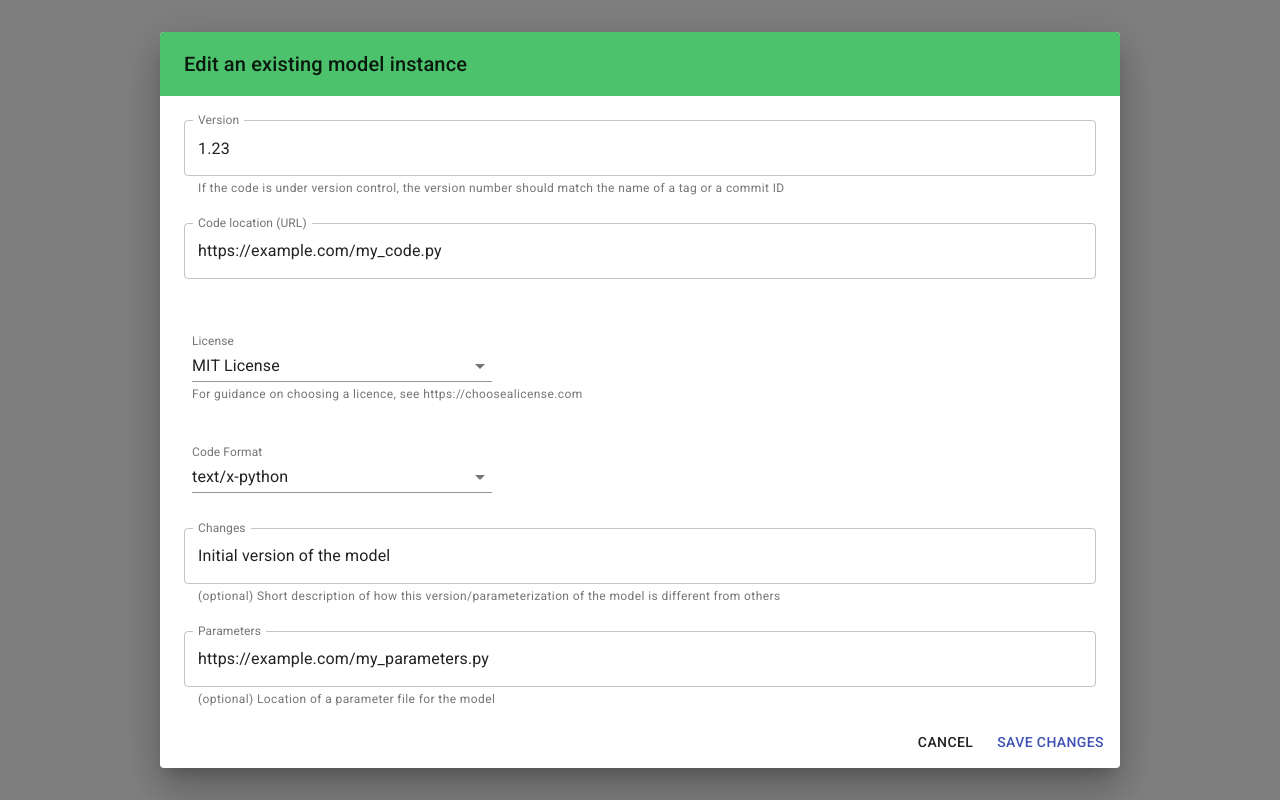
Test case: ModelInstanceEditForm › error dialog › renders ErrorDialog and can close it
Click the button "Save changes".
click(1051, 742)  # box x1=989 y1=724 x2=1112 y2=760
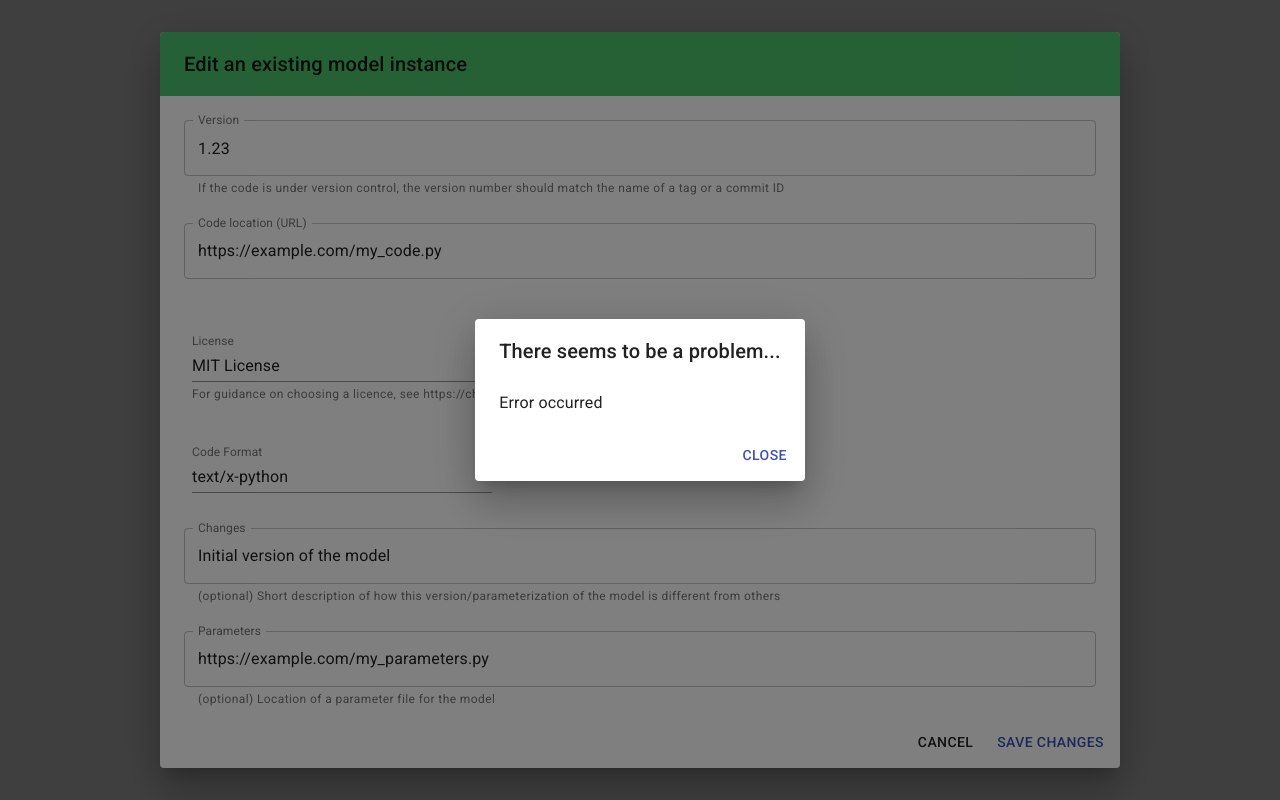
expect the text "Error occurred" is shown: met, box x1=499 y1=393 x2=603 y2=412
Click the button "Close".
click(765, 455)  # box x1=733 y1=436 x2=797 y2=473
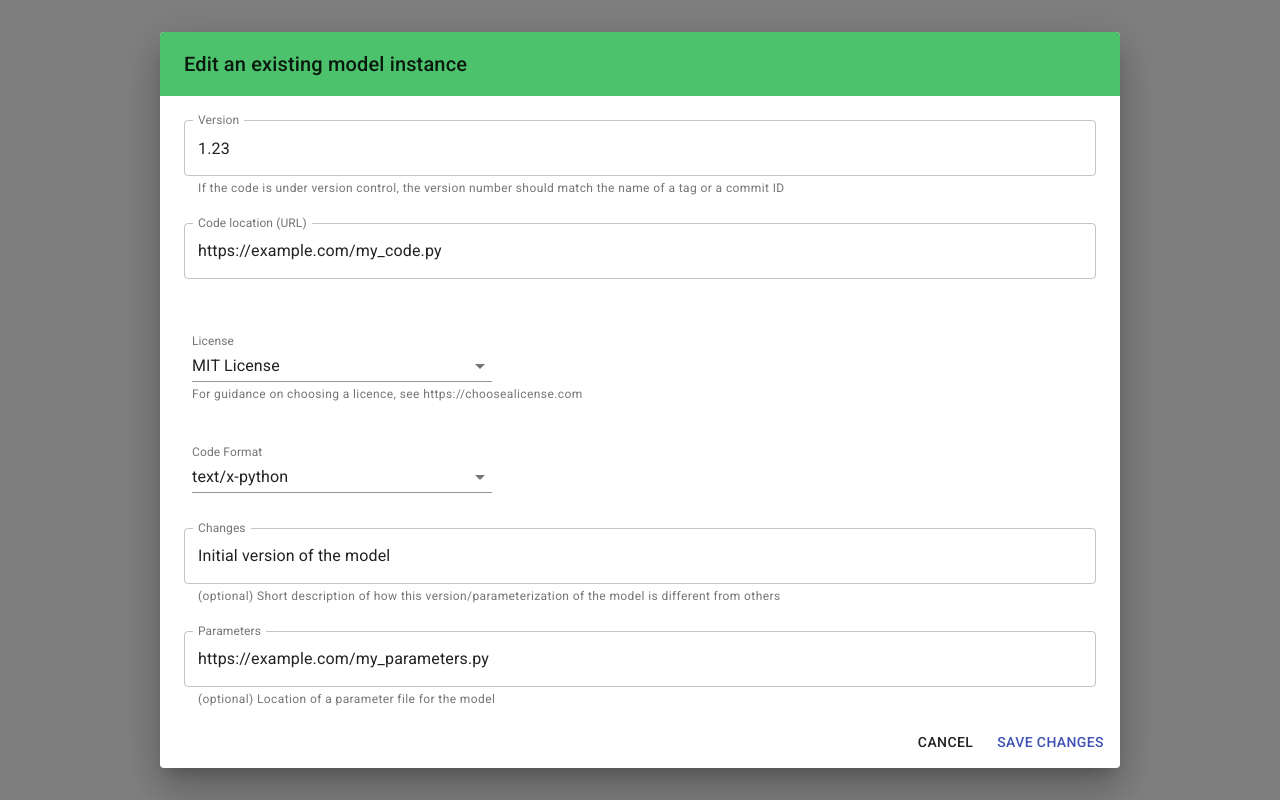
expect the text "Error occurred" is gone: met
